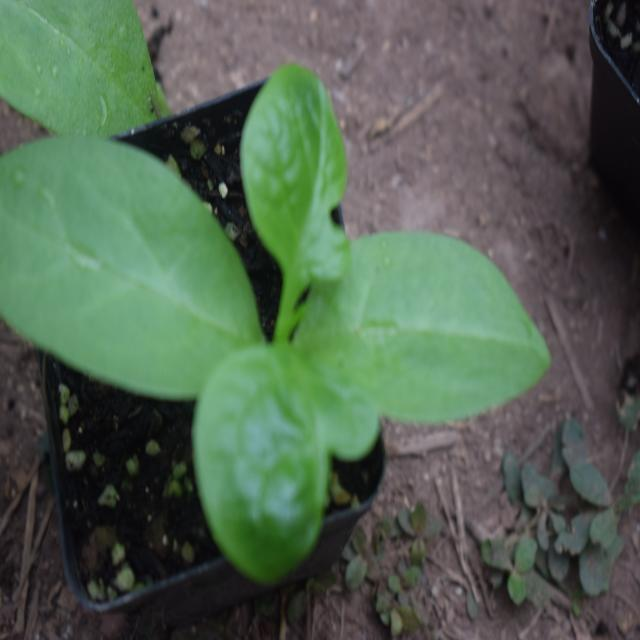Ceylon spinach: (13, 104, 531, 598)
